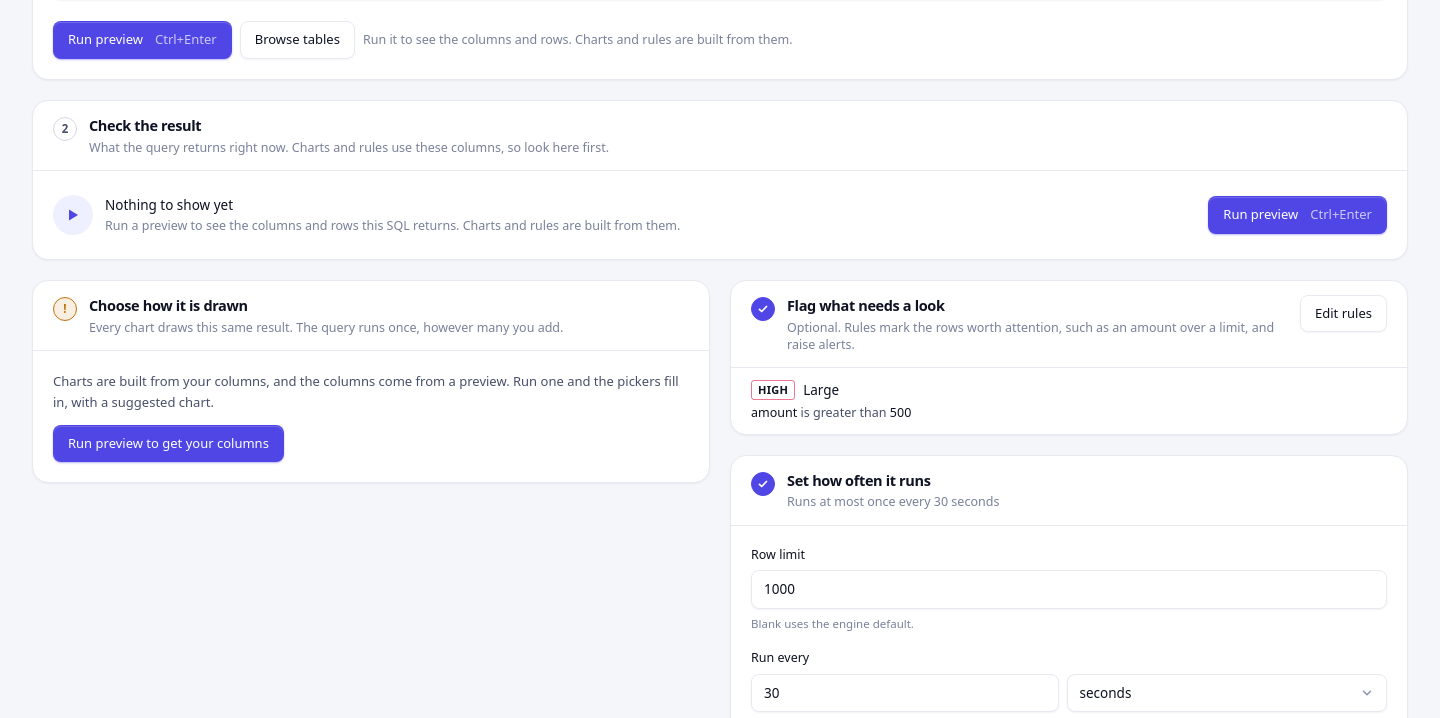
Test case: saved flag rules on reopen › shows the rules the query already has
(page scrolled)
Expected: the list item "Large" shows "amount is greater than 500", [751,380,911,421]
What coordinates should you click on to do the following:
click the button "Edit rules"
I would click on:
 (1344, 314)
Its box is [1300,295,1387,332].
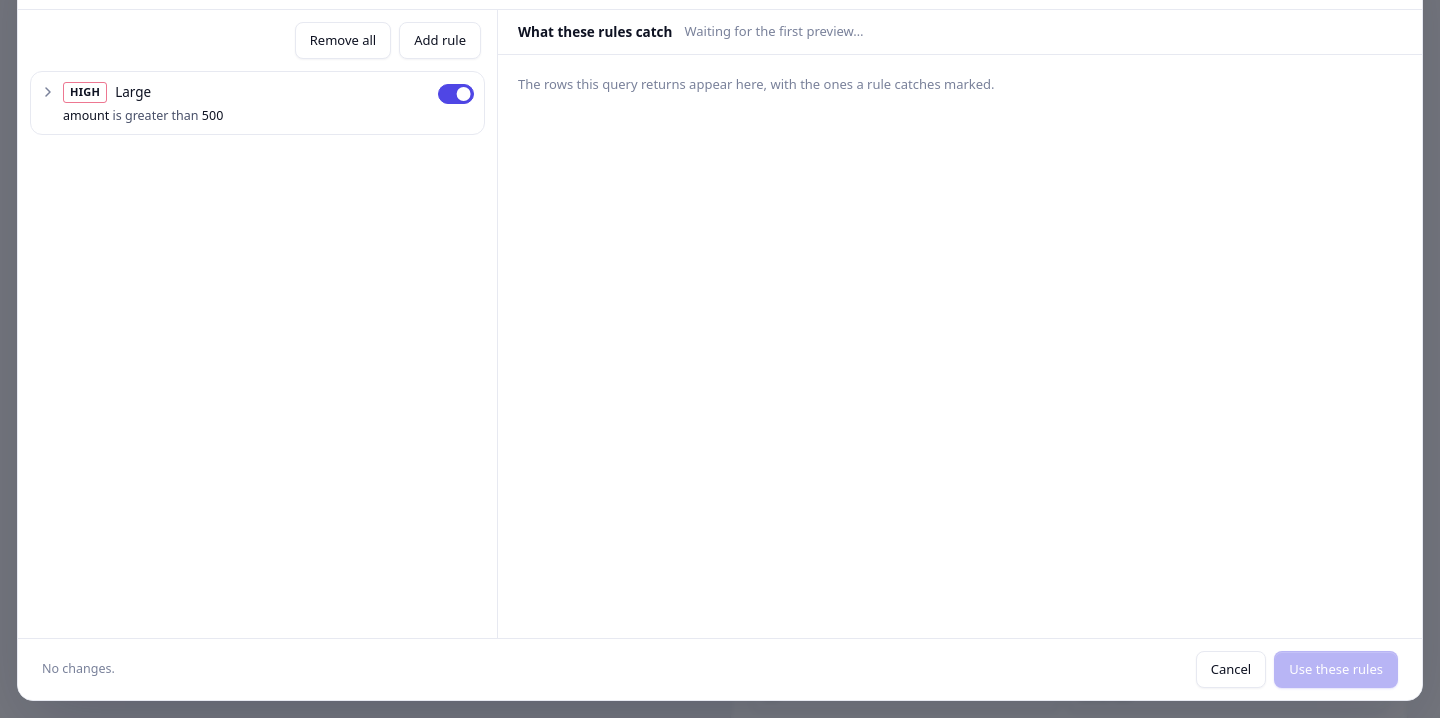
What coordinates should you click on to do the following:
click the button with aria-label "Edit rule Large"
I would click on:
 (85, 92)
Its box is [41,82,430,124].
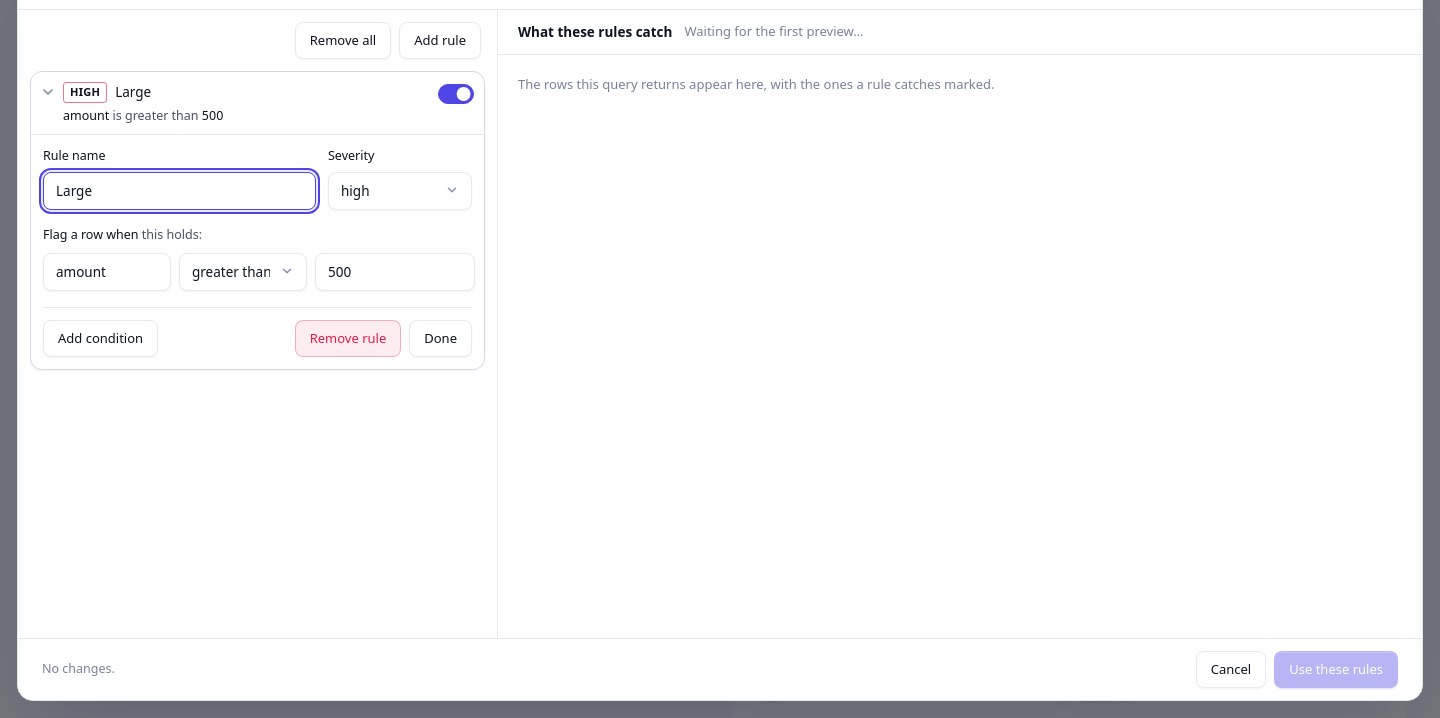
Expected: the field labelled "Rule name" holds "Large", [43,172,316,210]
Expected: the field named "Value" holds "500", [315,253,475,291]
